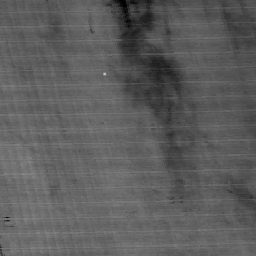Target: (101, 71, 108, 77)
